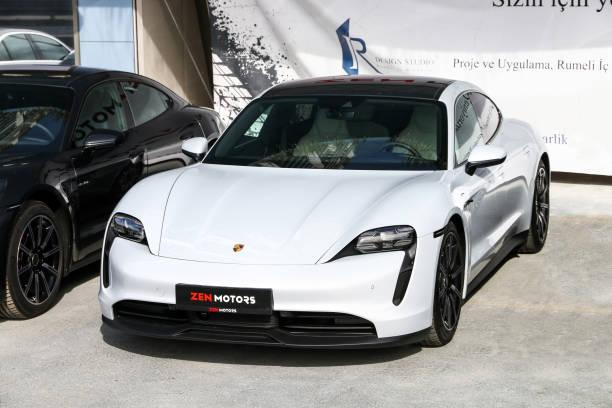porsche: (230, 239, 248, 257)
